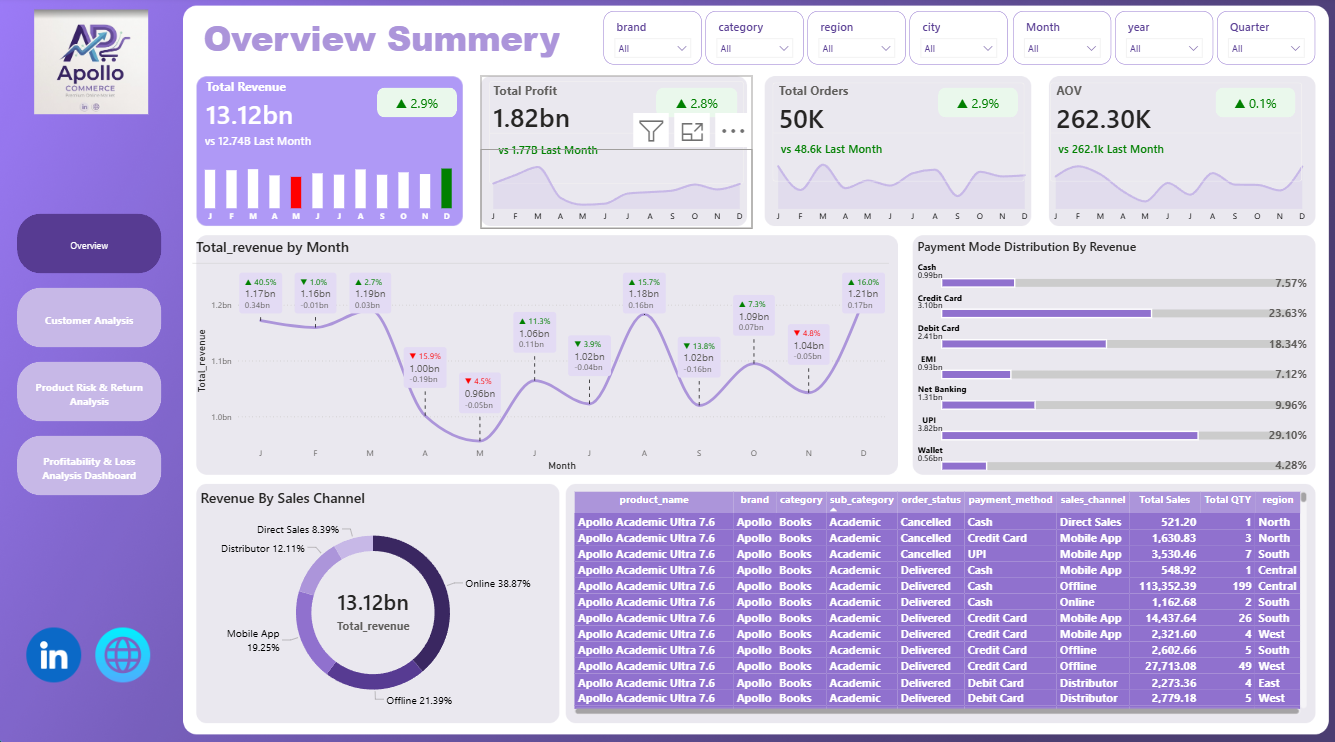

The dashboard page shown, as its layout file describes it:
{"tool":"powerbi","page":{"name":"Overview","canvas":[1920,1080],"ordinal":0},"visuals":[{"type":"cardVisual","fields":{"Data":["Measures_table.Total_revenue"]},"box":[284,105,372.2,181.3],"z":0,"group":"g1"},{"type":"shape","box":[940,131.2,116.9,42.9],"z":0,"group":"g2"},{"type":"shape","box":[1345.6,131.2,114.5,42.9],"z":0,"group":"g3"},{"type":"shape","box":[1744.1,131.2,114.5,42.9],"z":0,"group":"g4"},{"type":"pageNavigator","box":[26.2,312.6,207.6,404],"z":0},{"type":"cardVisual","fields":{"Data":["Measures_table.Total Profit"]},"box":[694.3,114.5,381.7,171.8],"z":1000,"group":"g2"},{"type":"shape","box":[541.6,131.2,114.5,42.9],"z":1000,"group":"g1"},{"type":"lineChart","fields":{"Category":["Calender_table.Month"],"Y":["Measures_table.Total_orders"]},"box":[1097.5,219.5,388.9,114.5],"z":1000,"group":"g3"},{"type":"lineChart","fields":{"Category":["Calender_table.Month"],"Y":["Measures_table.AOV"]},"box":[1496,219.5,388.9,114.5],"z":1000,"group":"g4"},{"type":"group","id":"g1","title":"Group 1","box":[276.8,105,388.9,229],"z":2000},{"type":"cardVisual","fields":{"Data":["Measures_table.Total_orders"]},"box":[1097.5,114.5,381.7,162.2],"z":2000,"group":"g3"},{"type":"cardVisual","fields":{"Data":["Measures_table.AOV"]},"box":[1496,114.5,381.7,162.2],"z":2000,"group":"g4"},{"type":"columnChart","fields":{"Category":["Calender_table.Month"],"Y":["Measures_table.Total_revenue"]},"box":[276.8,219.5,388.9,114.5],"z":2000,"group":"g1"},{"type":"lineChart","fields":{"Category":["Calender_table.Month"],"Y":["Measures_table.Total Profit"]},"box":[689.5,219.5,388.9,114.5],"z":2000,"group":"g2"},{"type":"group","id":"g2","title":"Group 2","box":[689.5,114.5,388.9,219.5],"z":3000},{"type":"group","id":"g3","title":"Group 3","box":[1097.5,114.5,388.9,219.5],"z":4000},{"type":"group","id":"g4","title":"Group 3","box":[1496,114.5,388.9,219.5],"z":5000},{"type":"tableEx","fields":{"Values":["products.product_name","products.brand","products.category","products.sub_category","orders.order_status","orders.payment_method","orders.sales_channel","Sum(orders.total_sales)","Sum(orders.quantity)","customers.region"]},"box":[818.4,703.8,1059.3,329.3],"z":6000},{"type":"clusteredBarChart","title":"Payment Mode Distribution By Revenue","fields":{"Category":["orders.payment_method"],"Y":["Measures_table.Header","Measures_table.subheader","Measures_table.Total bar"]},"box":[1309.9,346,567.8,338.8],"z":7000},{"type":"donutChart","title":"Revenue By Sales Channel","fields":{"Category":["orders.sales_channel"],"Y":["Measures_table.Total_revenue"]},"box":[283.9,703.8,503.4,329.3],"z":8000},{"type":"card","fields":{"Values":["Measures_table.Total_revenue"]},"box":[453.3,832.7,164.6,88.3],"z":9000},{"type":"shape","box":[276.8,21.5,541.6,71.6],"z":10000},{"type":"slicer","fields":{"Values":["Calender_table.Date.Variation.Date Hierarchy.Month"]},"box":[1451.4,20.5,140.8,76.3],"z":11000},{"type":"slicer","fields":{"Values":["Calender_table.year"]},"box":[1597.8,20.5,140.8,76.3],"z":12000},{"type":"slicer","fields":{"Values":["Calender_table.Date.Variation.Date Hierarchy.Quarter"]},"box":[1744.1,20.5,140.8,76.3],"z":13000},{"type":"lineChart","fields":{"Category":["Calender_table.Month"],"Y":["Measures_table.Total_revenue"]},"box":[276.8,346,997.3,338.8],"z":14000},{"type":"slicer","fields":{"Values":["customers.city"]},"box":[1305.1,20.5,140.8,76.3],"z":14001},{"type":"slicer","fields":{"Values":["customers.region"]},"box":[1158.8,20.5,140.8,76.3],"z":14002},{"type":"slicer","fields":{"Values":["products.category"]},"box":[1012.4,20.5,140.8,76.3],"z":14003},{"type":"slicer","fields":{"Values":["products.brand"]},"box":[866.1,20.5,140.8,76.3],"z":14004},{"type":"image","box":[26.2,904.3,105,78.7],"z":14005},{"type":"image","box":[124.1,904.3,105,78.7],"z":14006},{"type":"image","box":[14.3,19.1,233.8,150.3],"z":14007}]}

Visuals, with their boxes in screenshot pixels (x1, y1, x2, y2), scaled from the page's 1920x1080 canvas onto the 1335x742 screenshot:
cardVisual - Measures_table.Total_revenue: [x1=197, y1=72, x2=456, y2=197]
shape: [x1=654, y1=90, x2=735, y2=120]
shape: [x1=936, y1=90, x2=1015, y2=120]
shape: [x1=1213, y1=90, x2=1292, y2=120]
pageNavigator: [x1=18, y1=215, x2=163, y2=492]
cardVisual - Measures_table.Total Profit: [x1=483, y1=79, x2=748, y2=197]
shape: [x1=377, y1=90, x2=456, y2=120]
lineChart - Calender_table.Month x Measures_table.Total_orders: [x1=763, y1=151, x2=1034, y2=229]
lineChart - Calender_table.Month x Measures_table.AOV: [x1=1040, y1=151, x2=1311, y2=229]
"Group 1" group: [x1=192, y1=72, x2=463, y2=229]
cardVisual - Measures_table.Total_orders: [x1=763, y1=79, x2=1029, y2=190]
cardVisual - Measures_table.AOV: [x1=1040, y1=79, x2=1306, y2=190]
columnChart - Calender_table.Month x Measures_table.Total_revenue: [x1=192, y1=151, x2=463, y2=229]
lineChart - Calender_table.Month x Measures_table.Total Profit: [x1=479, y1=151, x2=750, y2=229]
"Group 2" group: [x1=479, y1=79, x2=750, y2=229]
"Group 3" group: [x1=763, y1=79, x2=1034, y2=229]
"Group 3" group: [x1=1040, y1=79, x2=1311, y2=229]
tableEx - products.product_name x products.brand: [x1=569, y1=484, x2=1306, y2=710]
"Payment Mode Distribution By Revenue" clusteredBarChart: [x1=911, y1=238, x2=1306, y2=470]
"Revenue By Sales Channel" donutChart: [x1=197, y1=484, x2=547, y2=710]
card - Measures_table.Total_revenue: [x1=315, y1=572, x2=430, y2=633]
shape: [x1=192, y1=15, x2=569, y2=64]
slicer - Calender_table.Date.Variation.Date Hierarchy.Month: [x1=1009, y1=14, x2=1107, y2=67]
slicer - Calender_table.year: [x1=1111, y1=14, x2=1209, y2=67]
slicer - Calender_table.Date.Variation.Date Hierarchy.Quarter: [x1=1213, y1=14, x2=1311, y2=67]
lineChart - Calender_table.Month x Measures_table.Total_revenue: [x1=192, y1=238, x2=886, y2=470]
slicer - customers.city: [x1=907, y1=14, x2=1005, y2=67]
slicer - customers.region: [x1=806, y1=14, x2=904, y2=67]
slicer - products.category: [x1=704, y1=14, x2=802, y2=67]
slicer - products.brand: [x1=602, y1=14, x2=700, y2=67]
image: [x1=18, y1=621, x2=91, y2=675]
image: [x1=86, y1=621, x2=159, y2=675]
image: [x1=10, y1=13, x2=173, y2=116]
